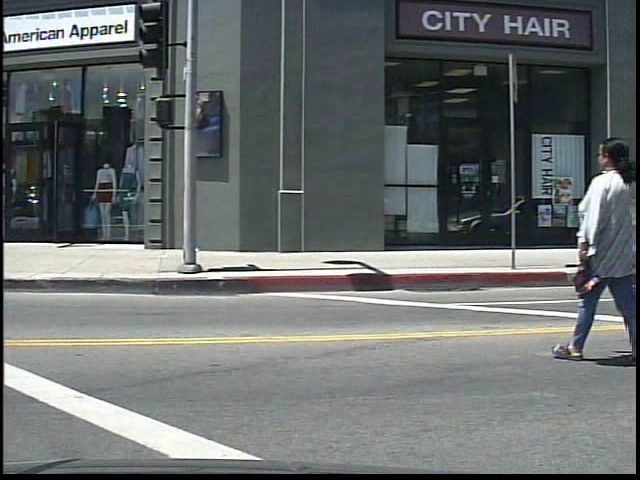person: (561, 119, 637, 369)
